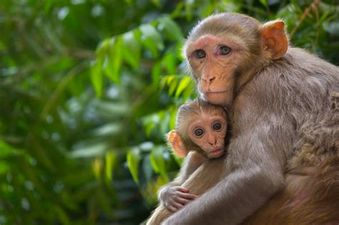monkey: (168, 5, 339, 225), (162, 91, 246, 199)
